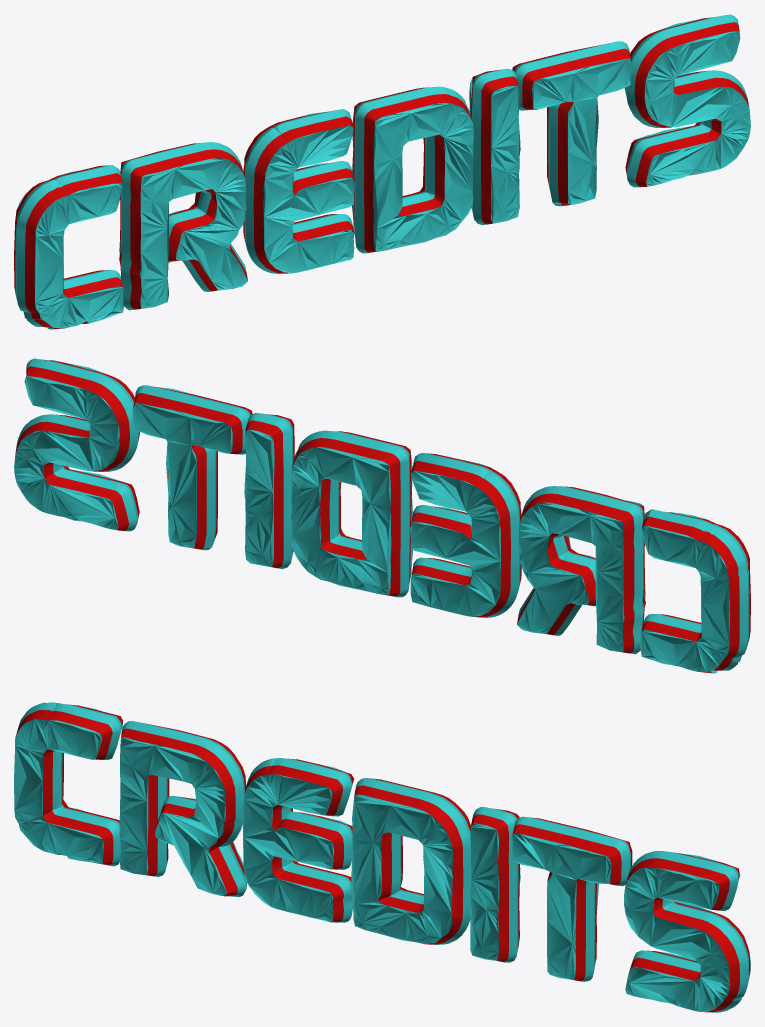
File: TextCredits.fbx
3 renders of one model, top to bottom at view 1: azimuth 30°, elevation 25°; view 2: azimuth 150°, elevation 25°; view 3: azimuth 330°, elevation 25°, orthographic.
Visible parts, largest first — view 1: TextCredits; view 2: TextCredits; view 3: TextCredits.
Part boxes in pixels (left/top/right/bottom): TextCredits: left=14, top=14, right=750, bottom=329; TextCredits: left=14, top=358, right=750, bottom=673; TextCredits: left=14, top=702, right=750, bottom=1012.
Bounding box in the file's own units: 4054 × 802 × 262.
